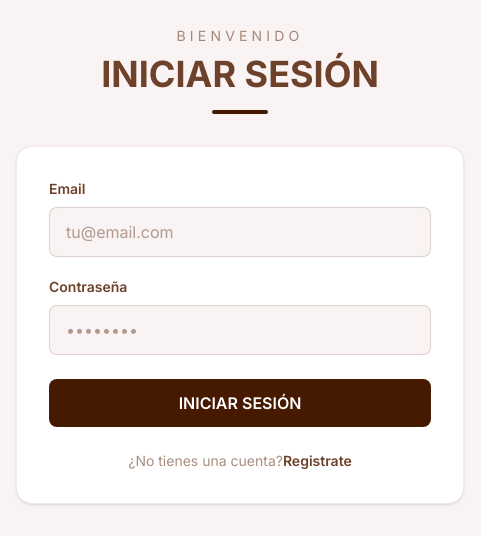
it: Login › rechaza contraseñas fuera del rango 4-10
Type "ana@gmail.com" into the field labelled "Email".
click(240, 232); type("ana@gmail.com")  # box 49,207 -> 431,257
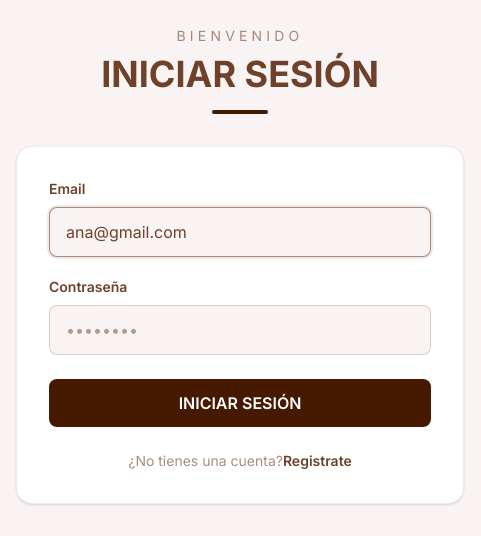
Type "123" into the password field labelled "Contraseña".
click(240, 330); type("123")  # box 49,305 -> 431,355
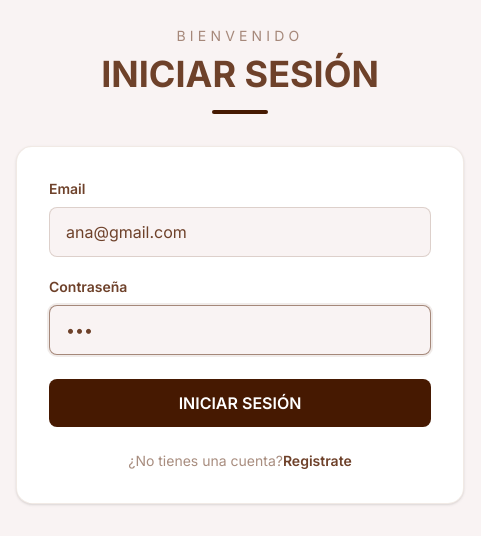
Click the button "INICIAR SESIÓN".
click(240, 403)  # box 49,379 -> 431,427
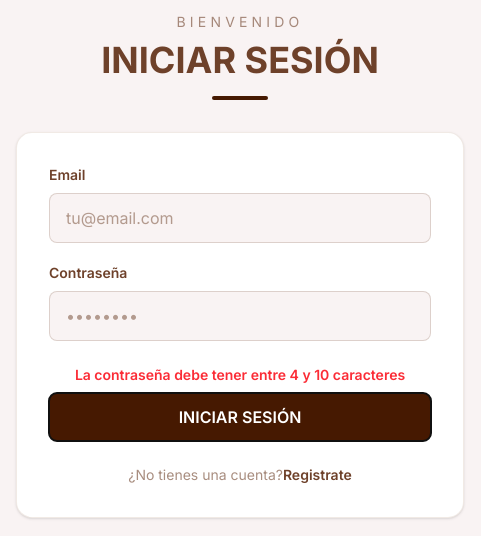
Check: the text "La contraseña debe tener entre 4 y 10 caracteres" is shown, box 49,365 -> 431,385
